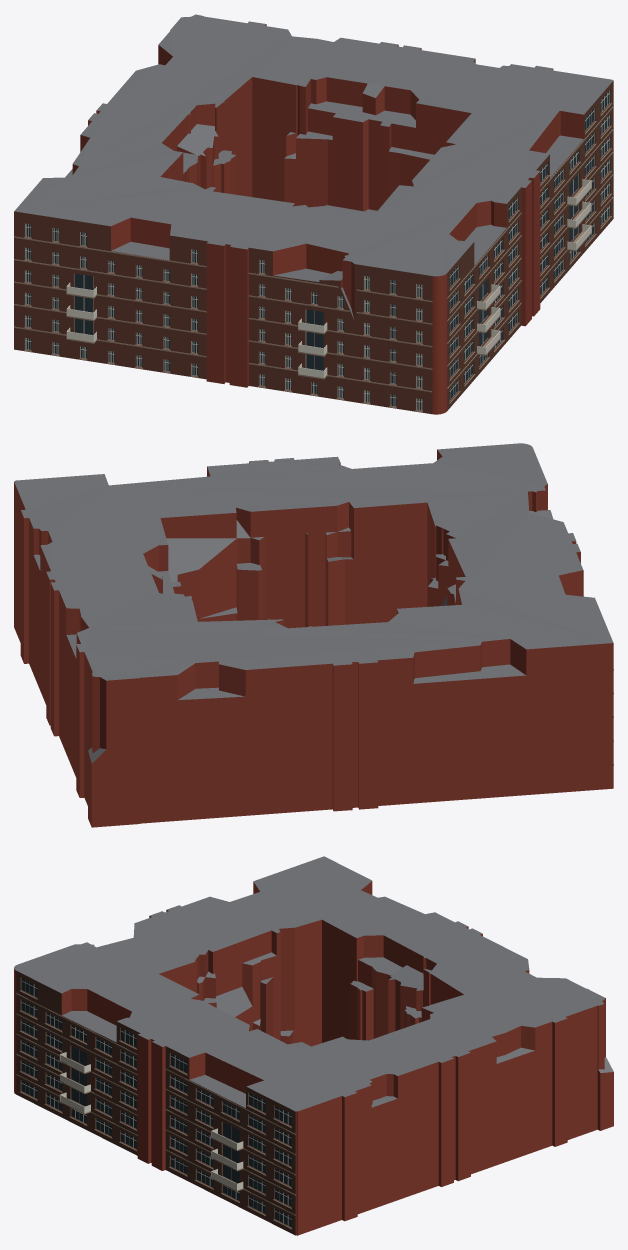
File: recipe-large-revaleiland-437-250186.glb
3 views of the same model, one above another, from view 1: azimuth 30°, elevation 25°; view 2: azimuth 150°, elevation 25°; view 3: azimuth 270°, elevation 25° (orthographic). The views are drawn at different scales.
Parts seen in each view (by area): view 1: revaleiland-437-250186; view 2: revaleiland-437-250186; view 3: revaleiland-437-250186.
Part boxes in pixels (bbox=[...]): revaleiland-437-250186: bbox=[14, 14, 613, 414]; revaleiland-437-250186: bbox=[14, 443, 613, 827]; revaleiland-437-250186: bbox=[14, 856, 613, 1235].
Bounding box in the file's own units: 87.16 × 19.73 × 86.43.
